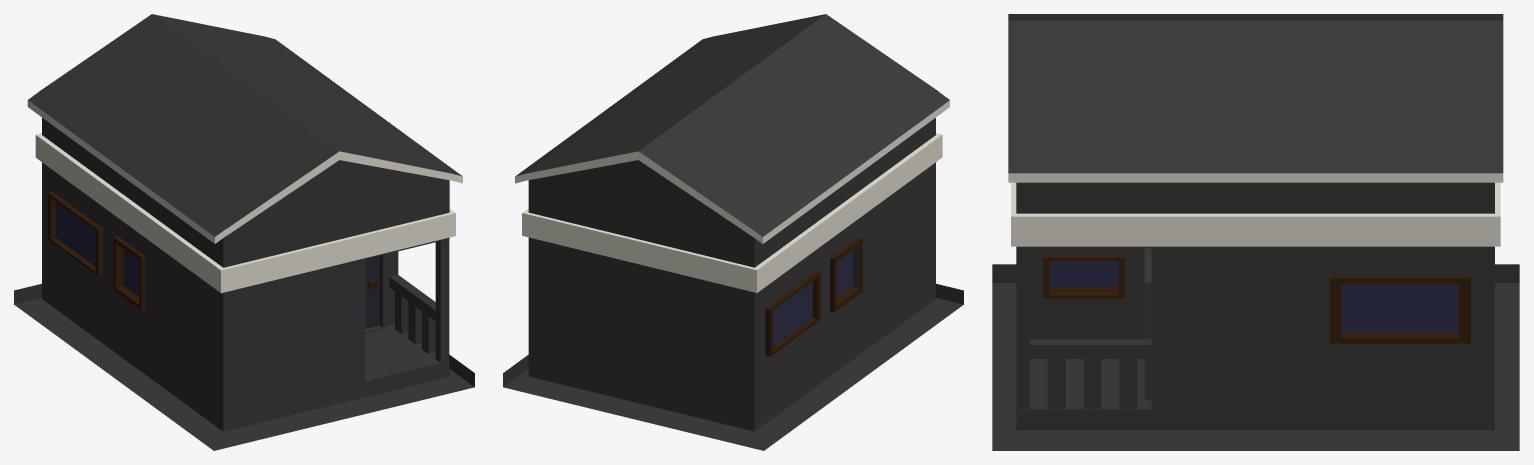
Rendered from house5.fbx.
3 views of the same model, side by side, from view 1: azimuth 30°, elevation 25°; view 2: azimuth 150°, elevation 25°; view 3: azimuth 270°, elevation 25° (orthographic). The views are drawn at different scales.
Parts seen in each view (by area): view 1: House; view 2: House; view 3: House.
Part boxes in pixels (left/top/right/bottom): House: left=14, top=14, right=474, bottom=450; House: left=503, top=14, right=963, bottom=450; House: left=992, top=14, right=1519, bottom=450.
Bounding box in the file's own units: 649 × 626 × 862.
